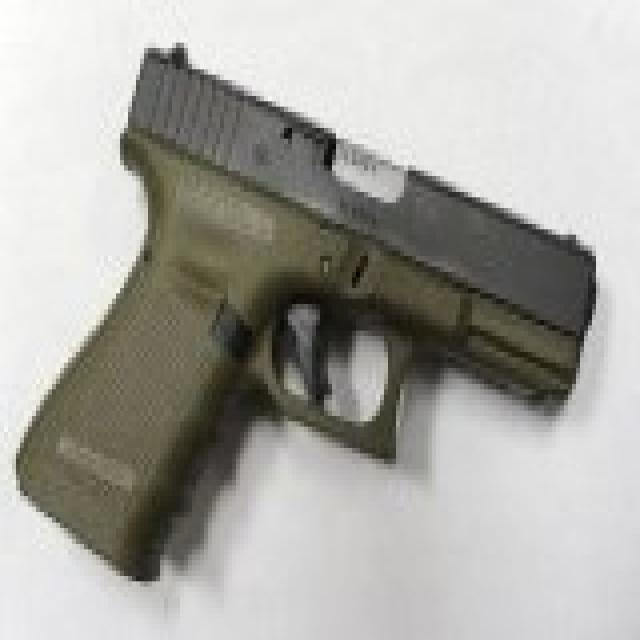Gun: (9, 9, 640, 573)
